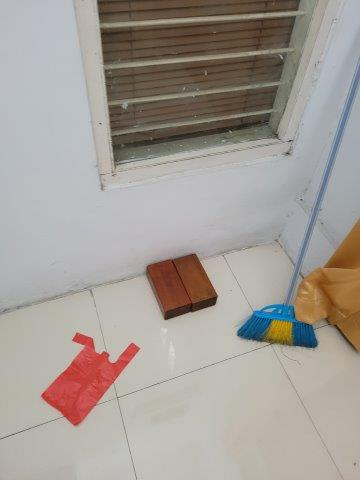plastik: (41, 332, 140, 425)
